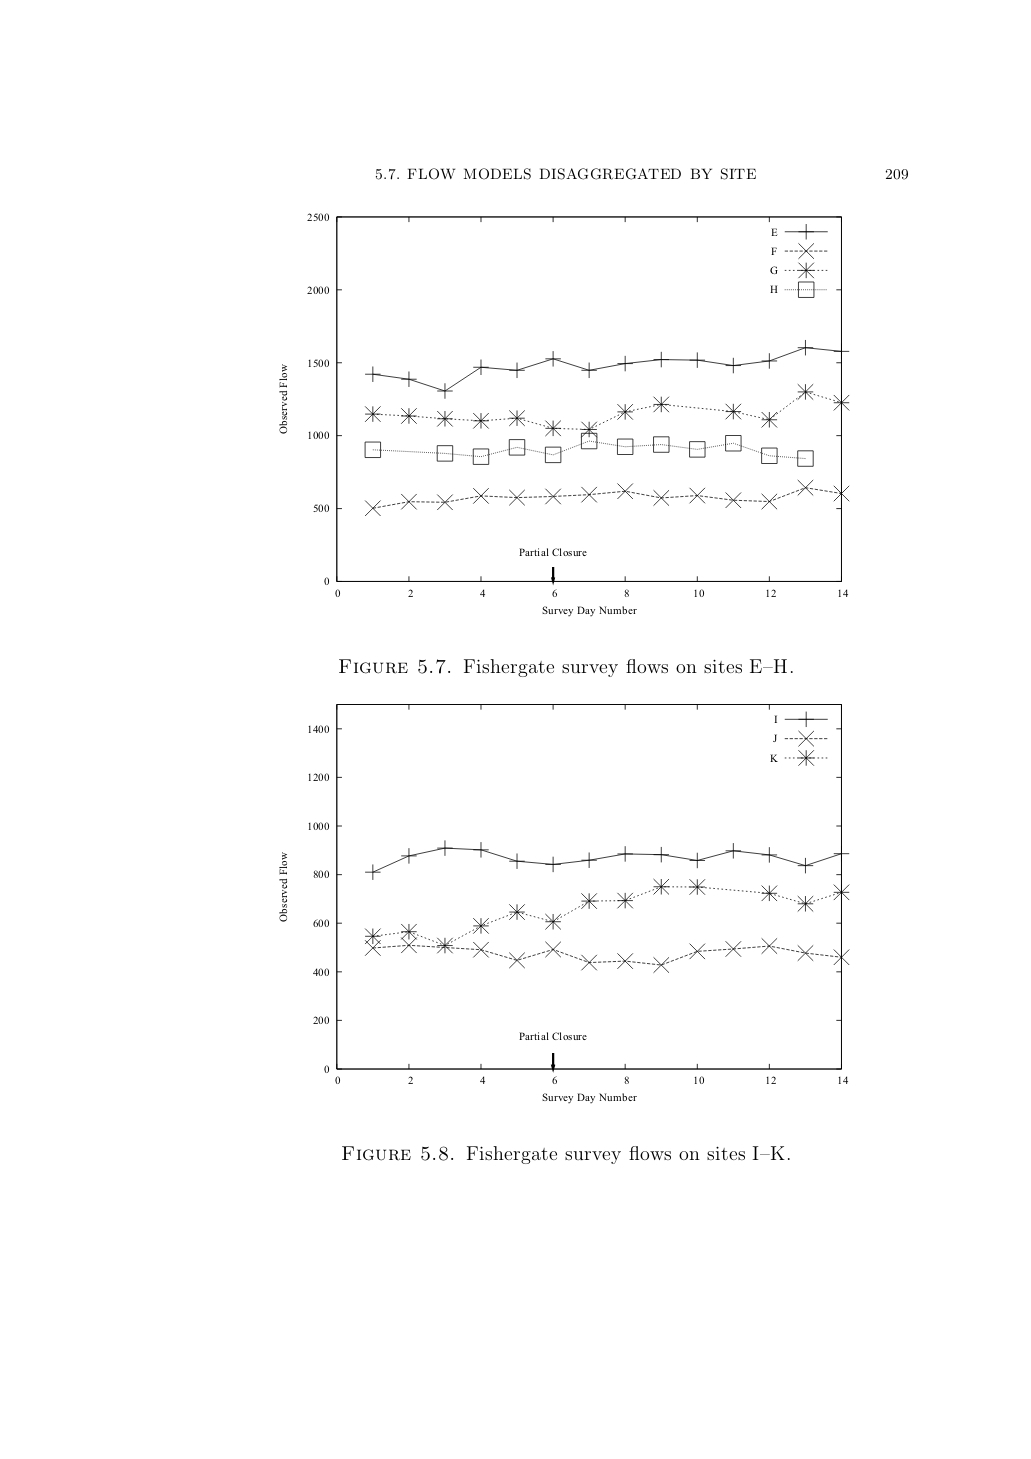figure: (279, 213, 849, 616), (279, 704, 849, 1103)
